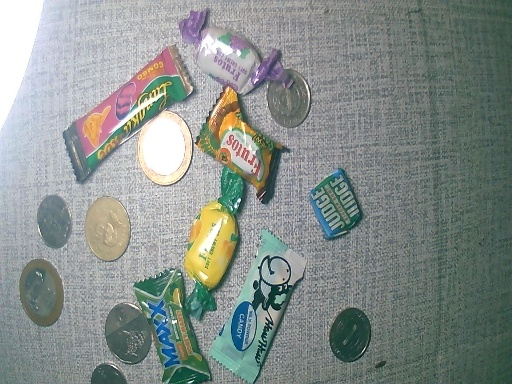metal: (131, 110, 194, 186), (78, 191, 132, 265), (17, 256, 64, 329), (103, 301, 150, 366), (326, 302, 371, 366), (266, 70, 311, 126), (33, 196, 73, 248), (90, 364, 122, 384)
plastic: (54, 45, 193, 175), (209, 235, 307, 378), (200, 89, 287, 203), (181, 7, 291, 95), (184, 171, 243, 317), (135, 268, 206, 384), (301, 170, 367, 244)
